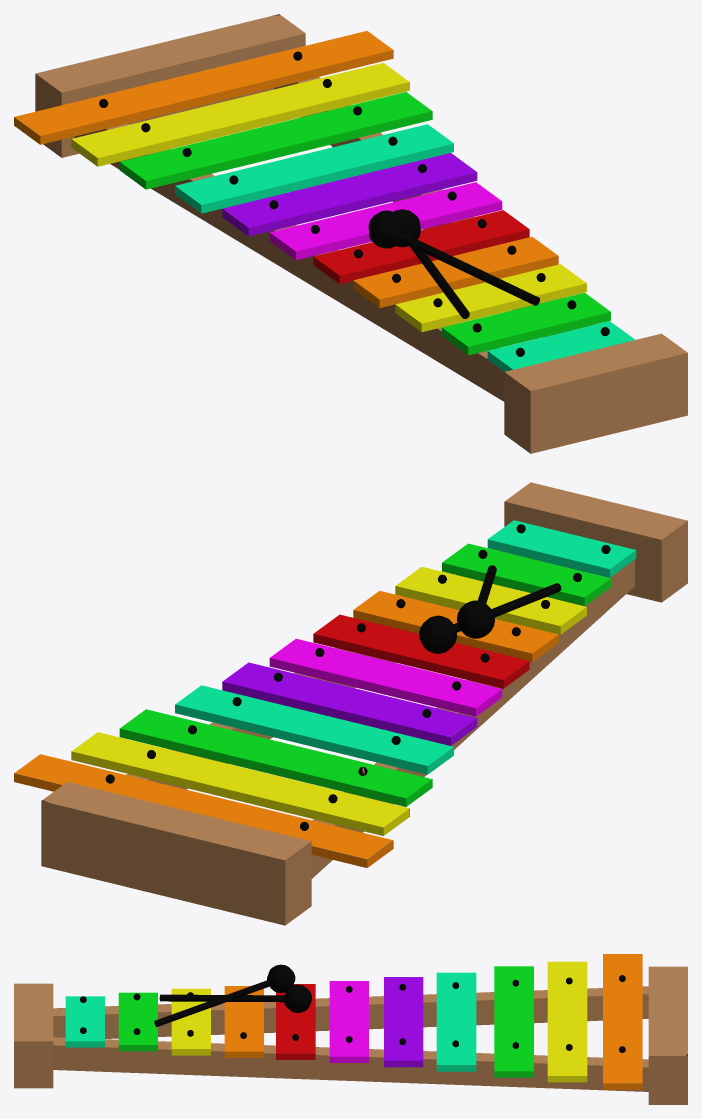
File: toy_xylophone.fbx
The picture shows the model from 3 angles, top to bottom: view 1: azimuth 30°, elevation 25°; view 2: azimuth 150°, elevation 25°; view 3: azimuth 270°, elevation 25°; orthographic projection. The views are drawn at different scales.
Visible parts, largest first — view 1: pSphere23, pSphere28; view 2: pSphere23, pSphere28; view 3: pSphere23, pSphere28.
Part boxes in pixels (x1,y1,x2,y2): pSphere23: (14,14,687,453); pSphere28: (368,209,539,318); pSphere23: (14,482,687,925); pSphere28: (419,565,561,653); pSphere23: (14,954,687,1104); pSphere28: (154,964,311,1026).
Bounding box in the file's own units: 1.45 × 0.4121 × 3.19.
